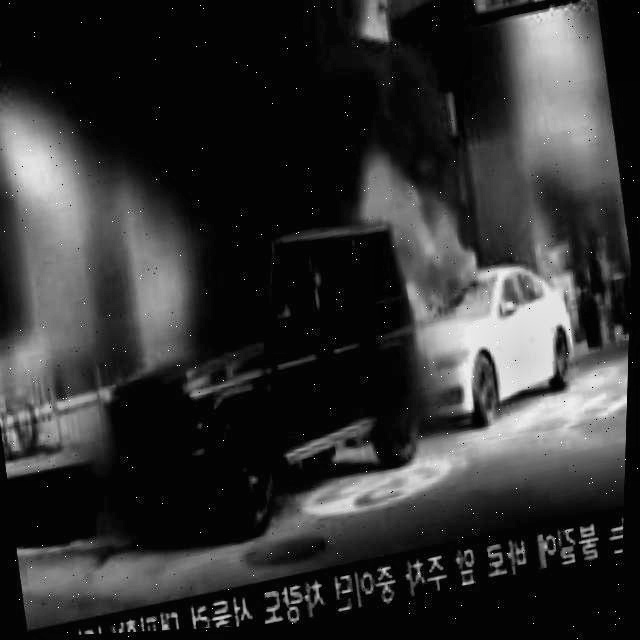Fire: (374, 173, 493, 330)
Smoke: (284, 0, 482, 197)
